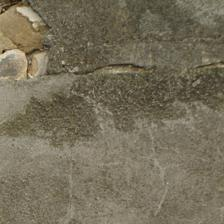Crack: (21, 29, 145, 57)
